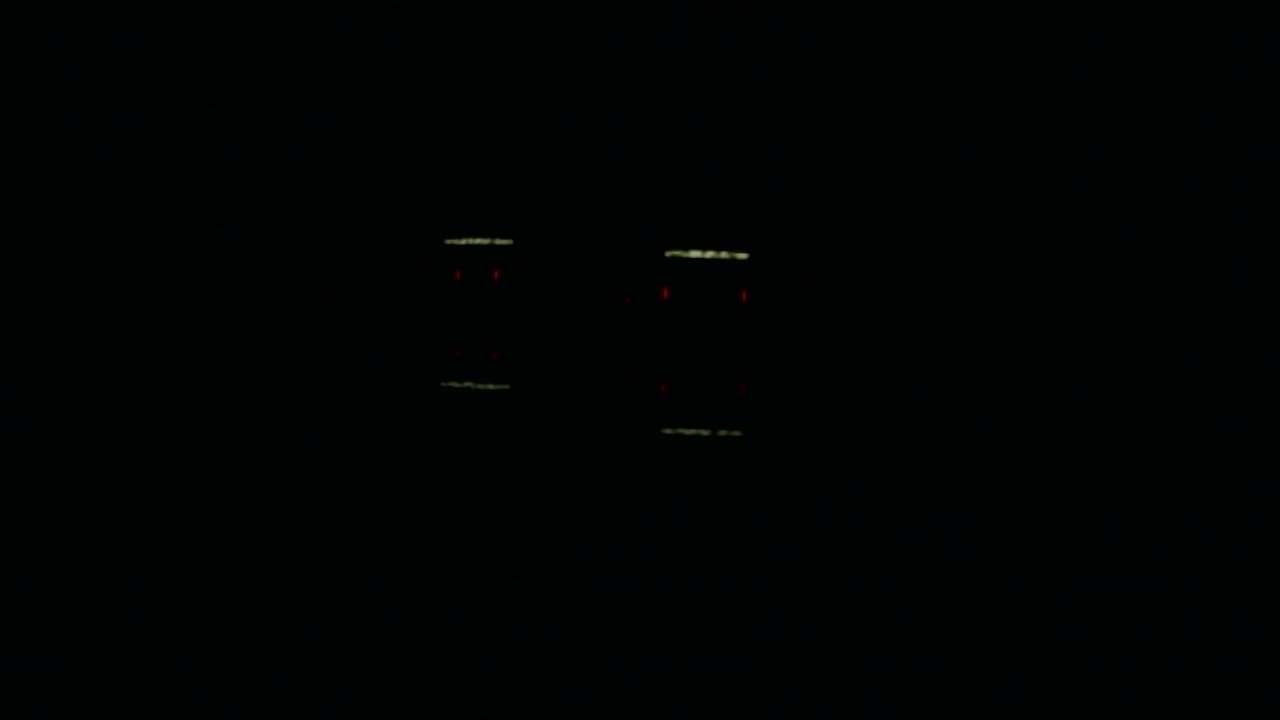pair1: (456, 269, 498, 279)
pair2: (661, 285, 748, 302)
